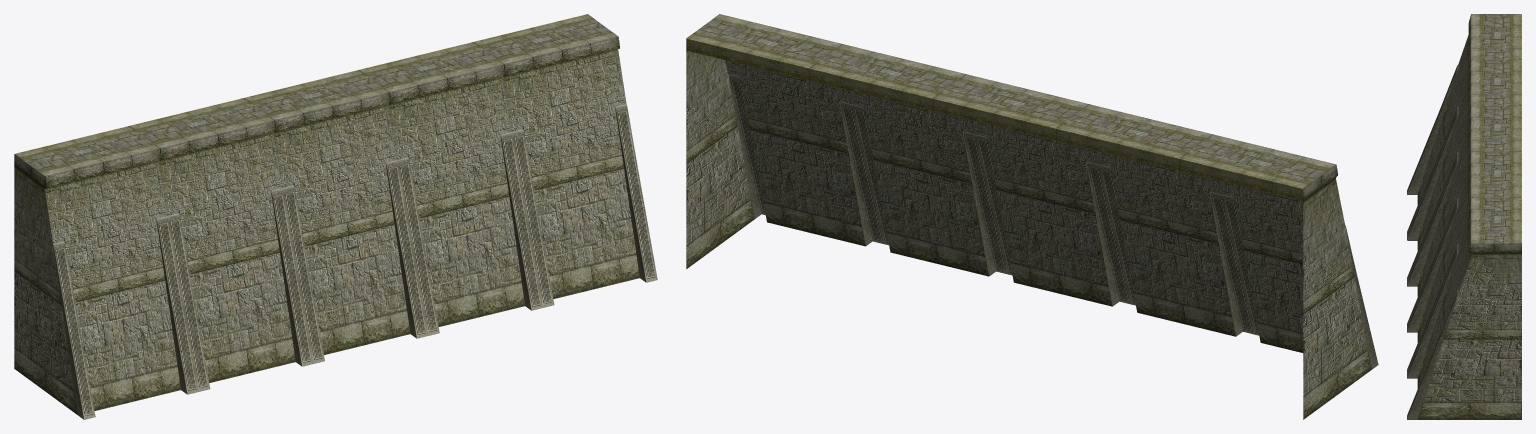
File: secret_bigwall_03.fbx
The picture shows the model from 3 angles, left to right: view 1: azimuth 30°, elevation 25°; view 2: azimuth 150°, elevation 25°; view 3: azimuth 270°, elevation 25°; orthographic projection. The views are drawn at different scales.
Visible parts, largest first — view 1: secret_bigwall_03; view 2: secret_bigwall_03; view 3: secret_bigwall_03.
Boxes of the visible parts, box(x1,y1,x2,y2) form: secret_bigwall_03: box(14, 14, 657, 419); secret_bigwall_03: box(686, 14, 1378, 419); secret_bigwall_03: box(1407, 14, 1521, 419).
Bounding box in the file's own units: 50 × 17.9 × 10.57.
